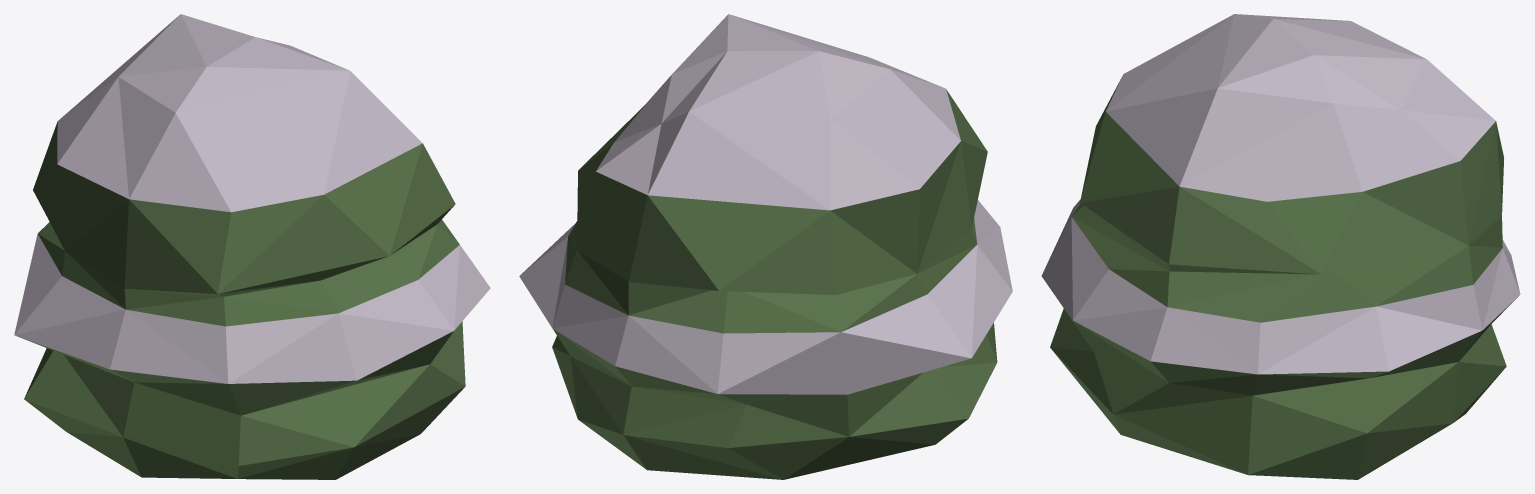
The model's file is Bush_Snow_2.lod1.glb.
The picture shows the model from 3 angles, left to right: view 1: azimuth 30°, elevation 25°; view 2: azimuth 150°, elevation 25°; view 3: azimuth 270°, elevation 25°; orthographic projection. The views are drawn at different scales.
Visible parts, largest first — view 1: Bush_Snow_2; view 2: Bush_Snow_2; view 3: Bush_Snow_2.
Boxes of the visible parts, <box> form: Bush_Snow_2: <box>14,14,490,479</box>; Bush_Snow_2: <box>519,14,1012,479</box>; Bush_Snow_2: <box>1041,14,1520,479</box>.
Size of the model in its own units: 1.36 by 1.15 by 1.34.
